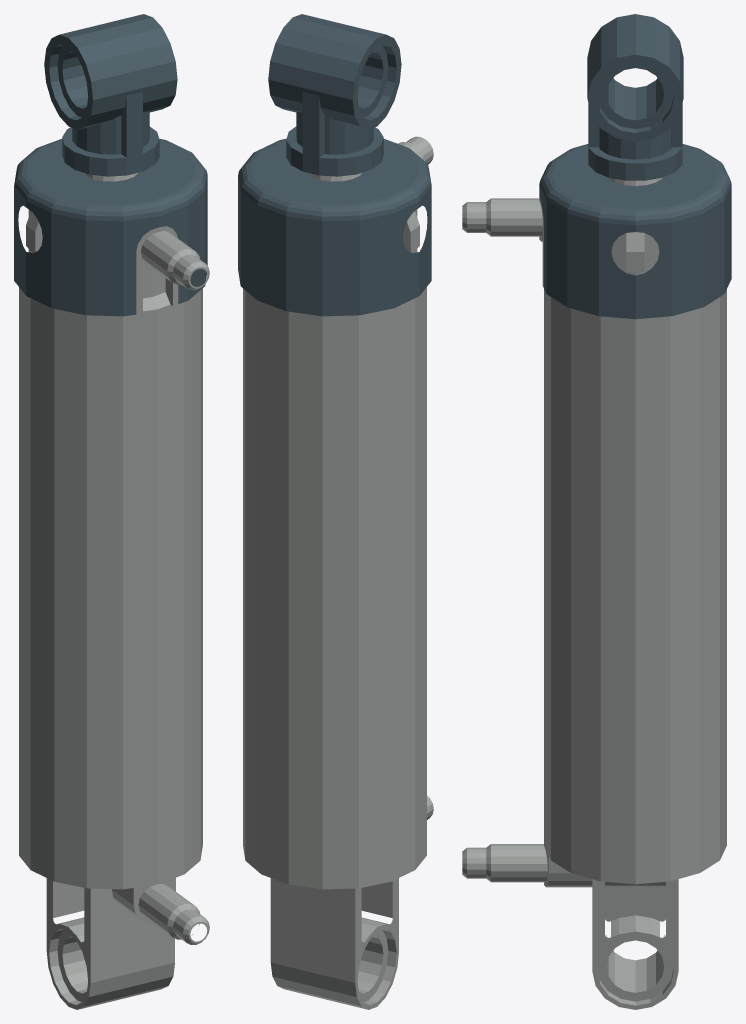
The picture shows the model from 3 angles, left to right: view 1: azimuth 30°, elevation 25°; view 2: azimuth 150°, elevation 25°; view 3: azimuth 270°, elevation 25°; orthographic projection.
Parts seen in each view (by area): view 1: world; view 2: world; view 3: world.
Part boxes in pixels (bbox=[...]): world: bbox=[14, 14, 209, 1009]; world: bbox=[238, 14, 433, 1009]; world: bbox=[462, 14, 731, 1009].
Bounding box in the file's own units: 0.016 × 0.0876 × 0.0224.
